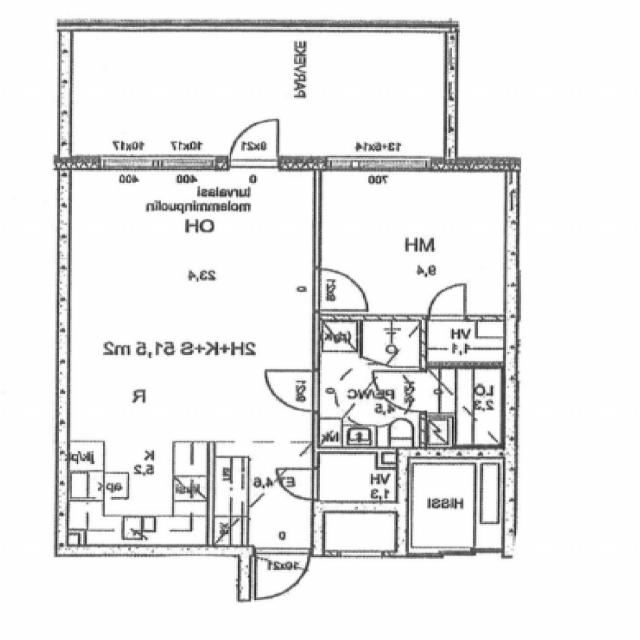door: (254, 545, 309, 602), (230, 115, 278, 170), (313, 268, 368, 309), (374, 371, 426, 411), (268, 371, 320, 410), (278, 468, 320, 499), (430, 284, 466, 320)
